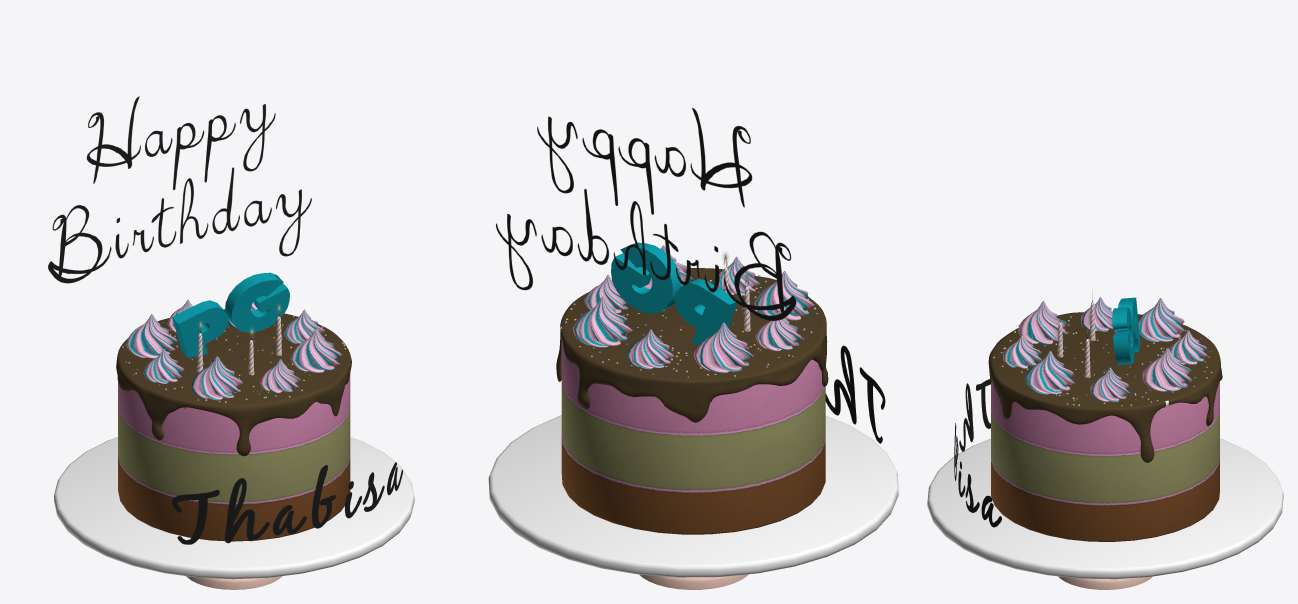
File: Birthday Cake.glb
3 renders of one model, left to right at view 1: azimuth 30°, elevation 25°; view 2: azimuth 150°, elevation 25°; view 3: azimuth 270°, elevation 25°, orthographic. The views are drawn at different scales.
Parts seen in each view (by area): view 1: Circle.002, Birthday text.002, Birthday text.001; view 2: Circle.002, Birthday text.002, Birthday text.001; view 3: Circle.002, Birthday text.001.
Part boxes in pixels (x1=…): Circle.002: x1=54, y1=272, x2=414, y2=589; Birthday text.002: x1=48, y1=96, x2=311, y2=283; Birthday text.001: x1=172, y1=462, x2=402, y2=544; Circle.002: x1=488, y1=242, x2=898, y2=589; Birthday text.002: x1=496, y1=108, x2=796, y2=320; Birthday text.001: x1=825, y1=345, x2=885, y2=443; Circle.002: x1=927, y1=297, x2=1283, y2=589; Birthday text.001: x1=954, y1=379, x2=1001, y2=527.
Size of what is drawn, in the model's own units: 0.4251 by 0.5634 by 0.3858.
4 materials, 4 textured.
